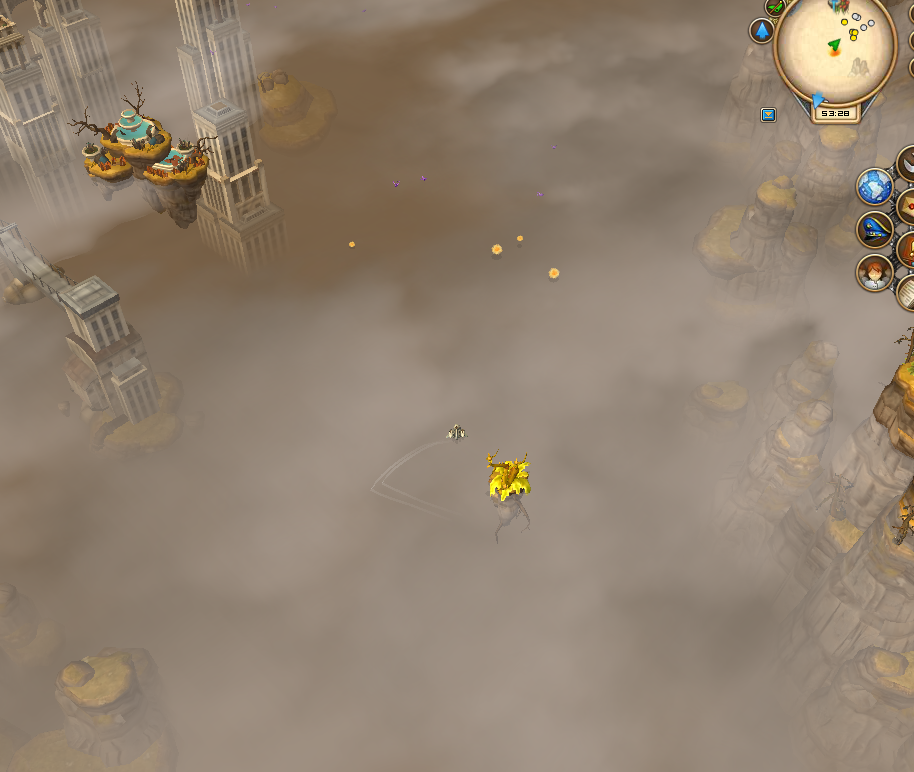dandelion-empty: (482, 445, 534, 530)
fluff: (545, 262, 562, 281), (489, 241, 505, 257), (513, 233, 525, 244), (347, 239, 357, 250)
